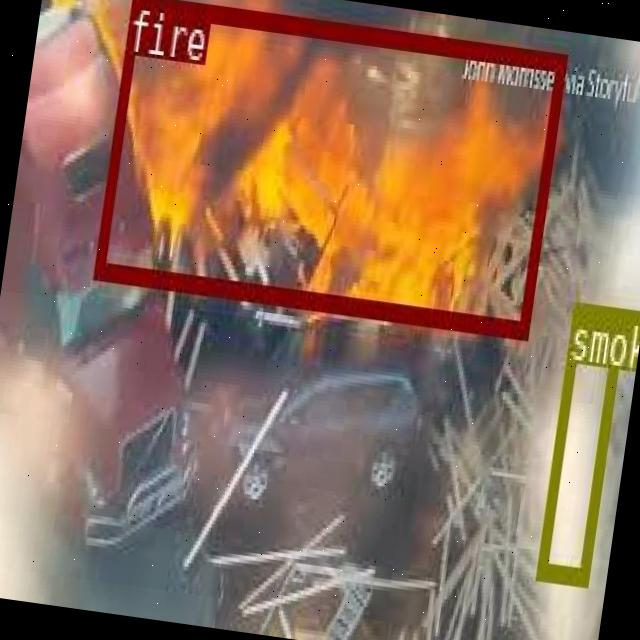fire: (92, 0, 567, 338)
smoke: (534, 300, 624, 582)
